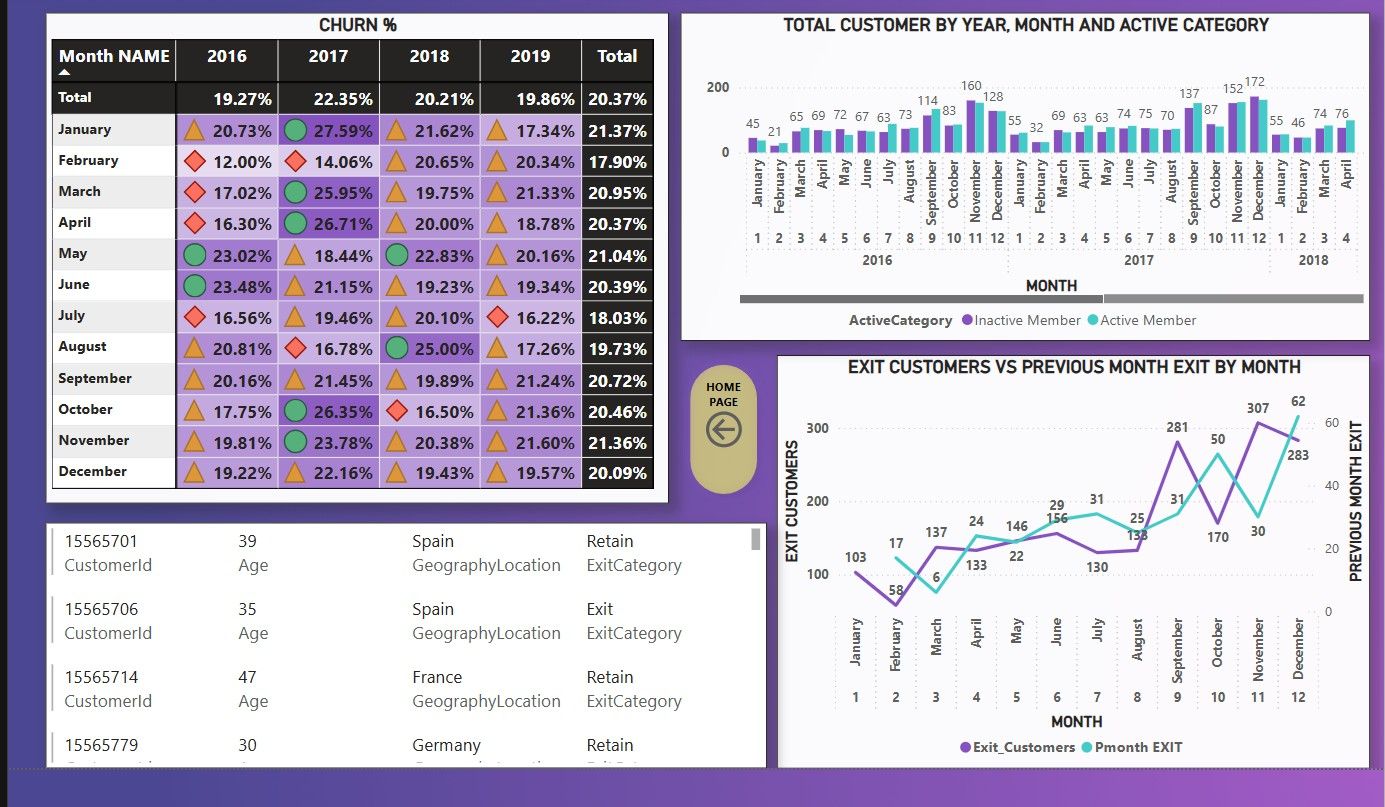

Layout of this report page (visuals, bound fields, positions):
{"tool":"powerbi","page":{"name":"SHEET 2","canvas":[1280,720],"ordinal":1},"visuals":[{"type":"pivotTable","title":"CHURN %","fields":{"Values":["calculations.churn%"],"Rows":["DatemasterTable.Month NAME","DatemasterTable.Month_n0"],"Columns":["DatemasterTable.Year"]},"box":[34.9,16.3,580.2,457],"z":0},{"type":"lineChart","title":"EXIT CUSTOMERS VS PREVIOUS MONTH EXIT BY MONTH","fields":{"Y2":["calculations.Pmonth EXIT"],"Y":["calculations.Exit_Customers"],"Category":["DatemasterTable.Month_n0","DatemasterTable.Month NAME"]},"box":[715.1,334.9,552.3,384.9],"z":1000},{"type":"clusteredColumnChart","title":" TOTAL CUSTOMER BY YEAR, MONTH AND ACTIVE CATEGORY","fields":{"Y":["calculations.Total_Customer"],"Category":["SAMP DATE.YEAR","SAMP DATE.MONTH NO","SAMP DATE.MONTH"],"Series":["ActiveCustomer.ActiveCategory"]},"box":[625.6,16.3,641.9,305.8],"z":2000},{"type":"multiRowCard","fields":{"Values":["CustomerInfo.CustomerId","Bank_Churn.Age","Geography.GeographyLocation","EXIT.ExitCategory"]},"box":[34.9,490.7,670.9,229.1],"z":3000},{"type":"actionButton","box":[625.6,334.9,80.2,138.4],"z":4000}]}

Visuals, with their boxes in screenshot pixels (x1, y1, x2, y2):
"CHURN %" pivotTable: l=48, t=14, r=667, b=501
"EXIT CUSTOMERS VS PREVIOUS MONTH EXIT BY MONTH" lineChart: l=774, t=354, r=1363, b=764
" TOTAL CUSTOMER BY YEAR, MONTH AND ACTIVE CATEGORY" clusteredColumnChart: l=678, t=14, r=1363, b=340
multiRowCard - CustomerInfo.CustomerId x Bank_Churn.Age: l=48, t=520, r=764, b=764
actionButton: l=678, t=354, r=764, b=501
